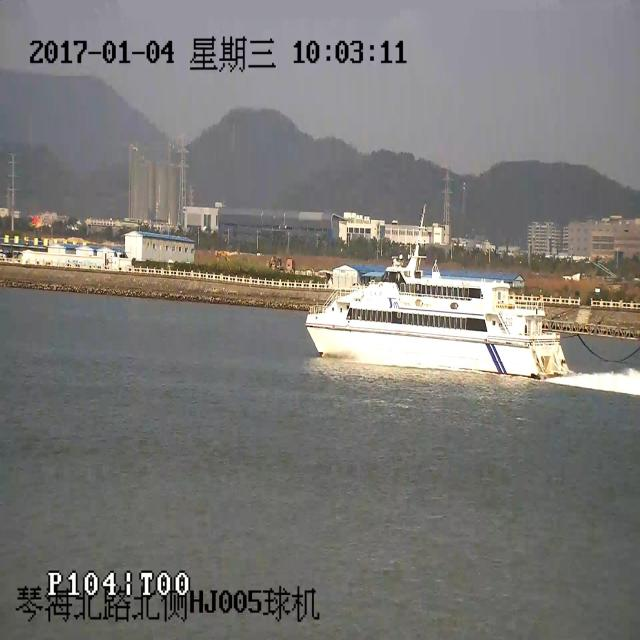passenger ship: (303, 232, 570, 386)
